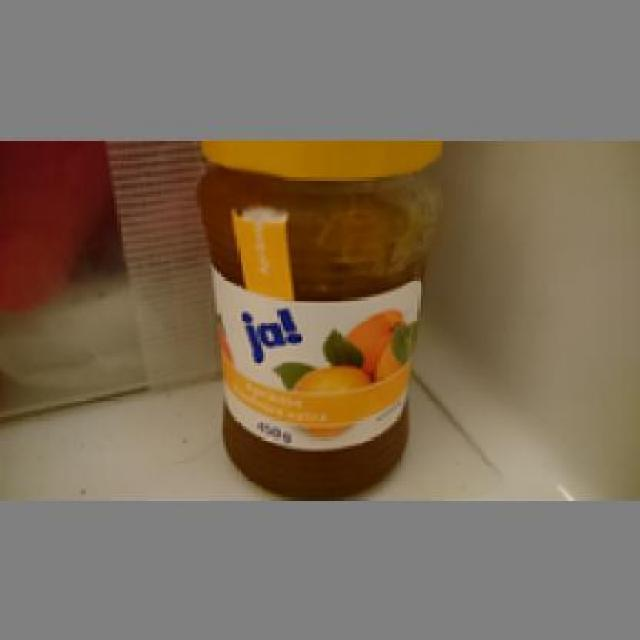Jam: (191, 137, 440, 492)
